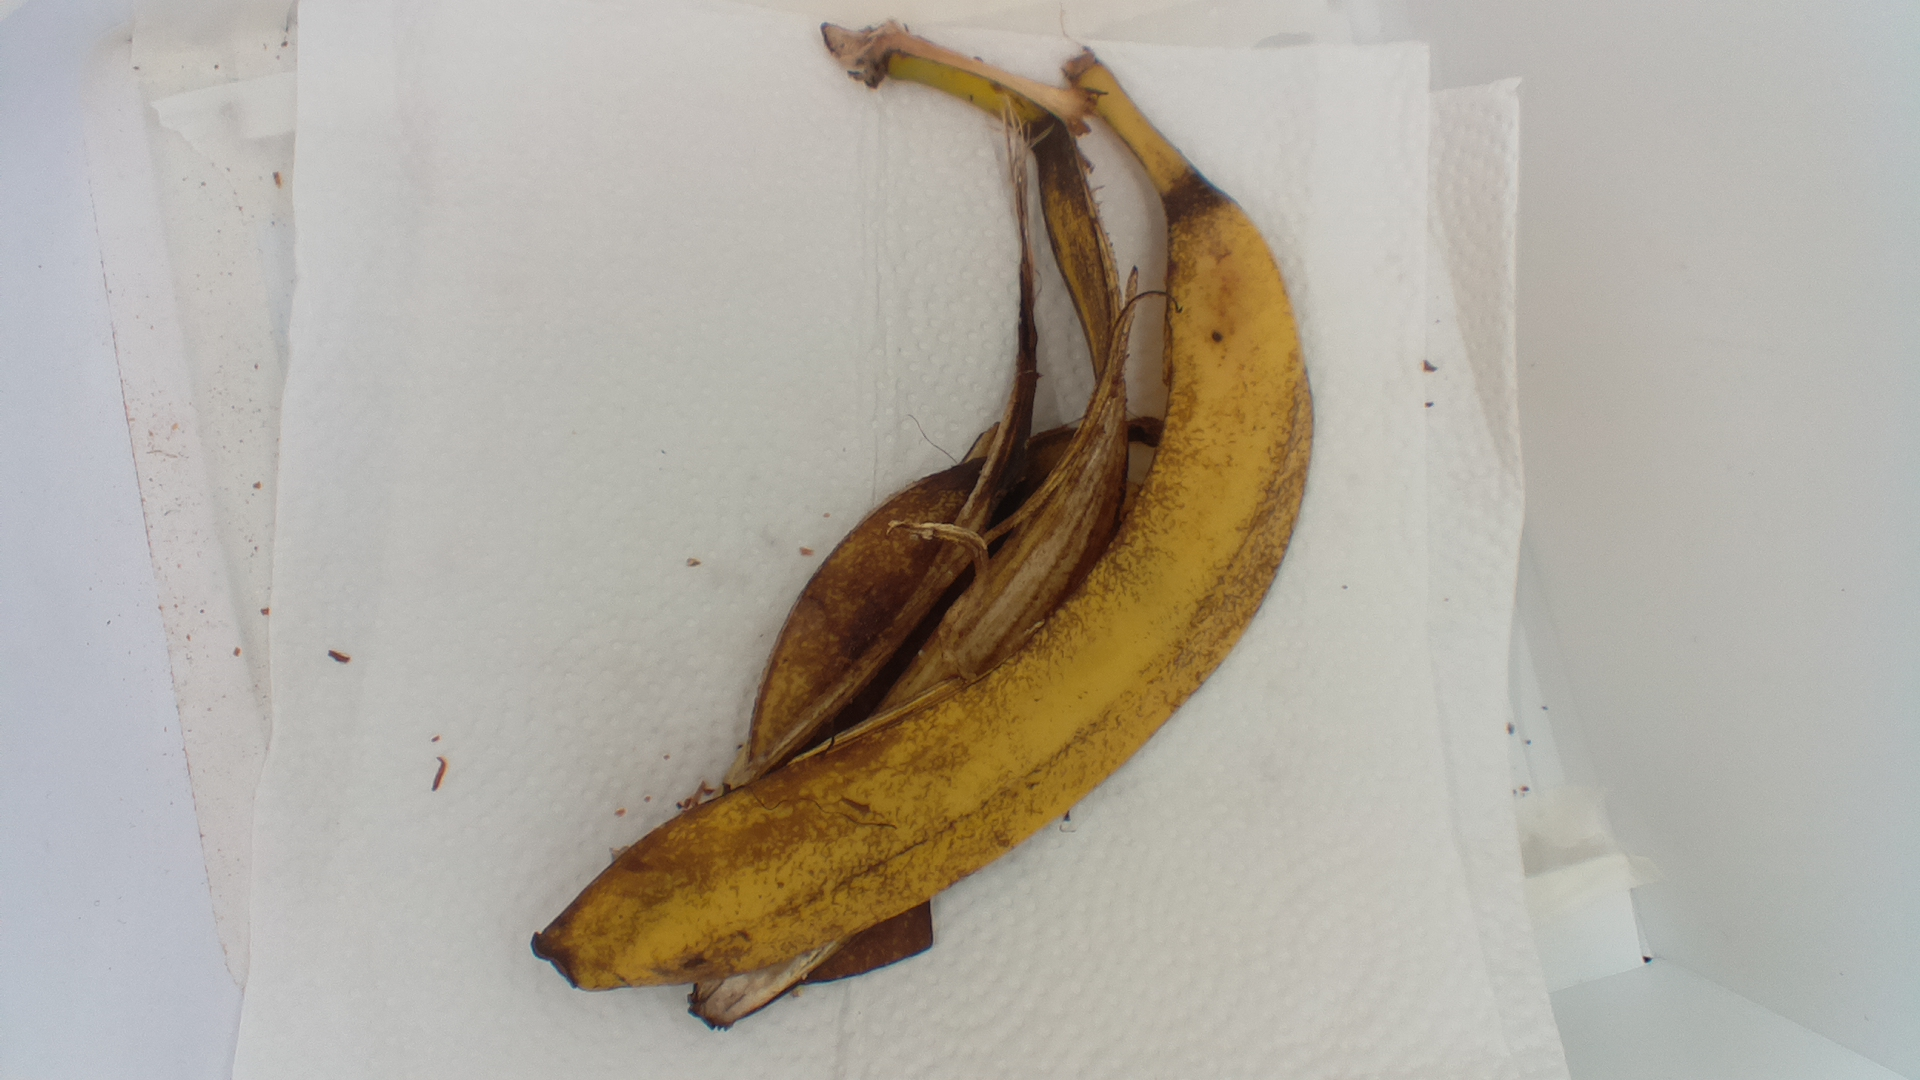fruit: (529, 16, 1323, 1033)
